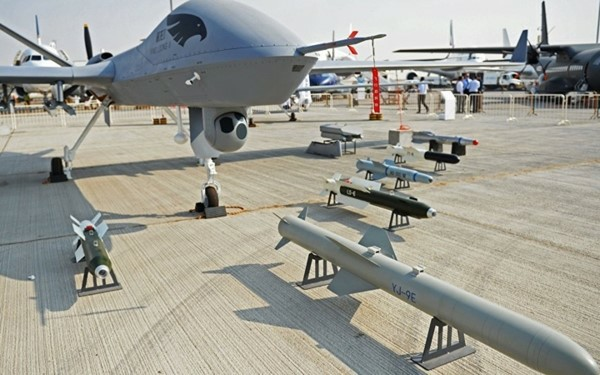maybay_khongnguoilai: (10, 5, 379, 173)
